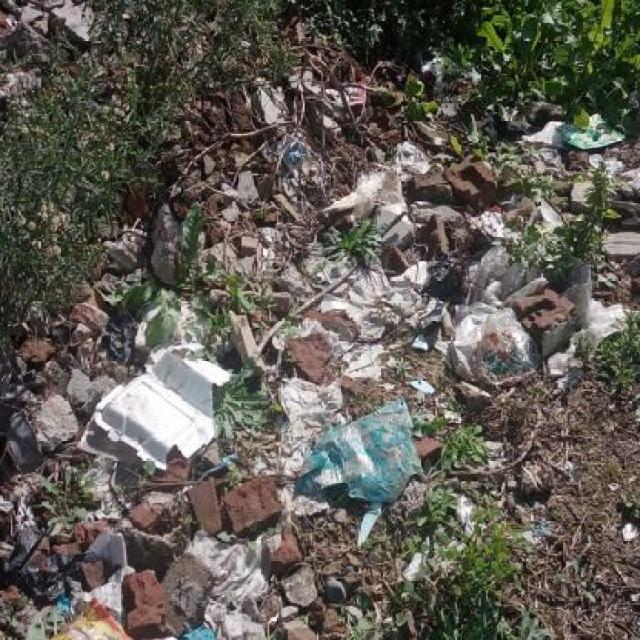garbage: (3, 318, 368, 634), (122, 151, 363, 310), (451, 145, 638, 342), (376, 162, 437, 483), (257, 48, 477, 134), (3, 0, 90, 53)
